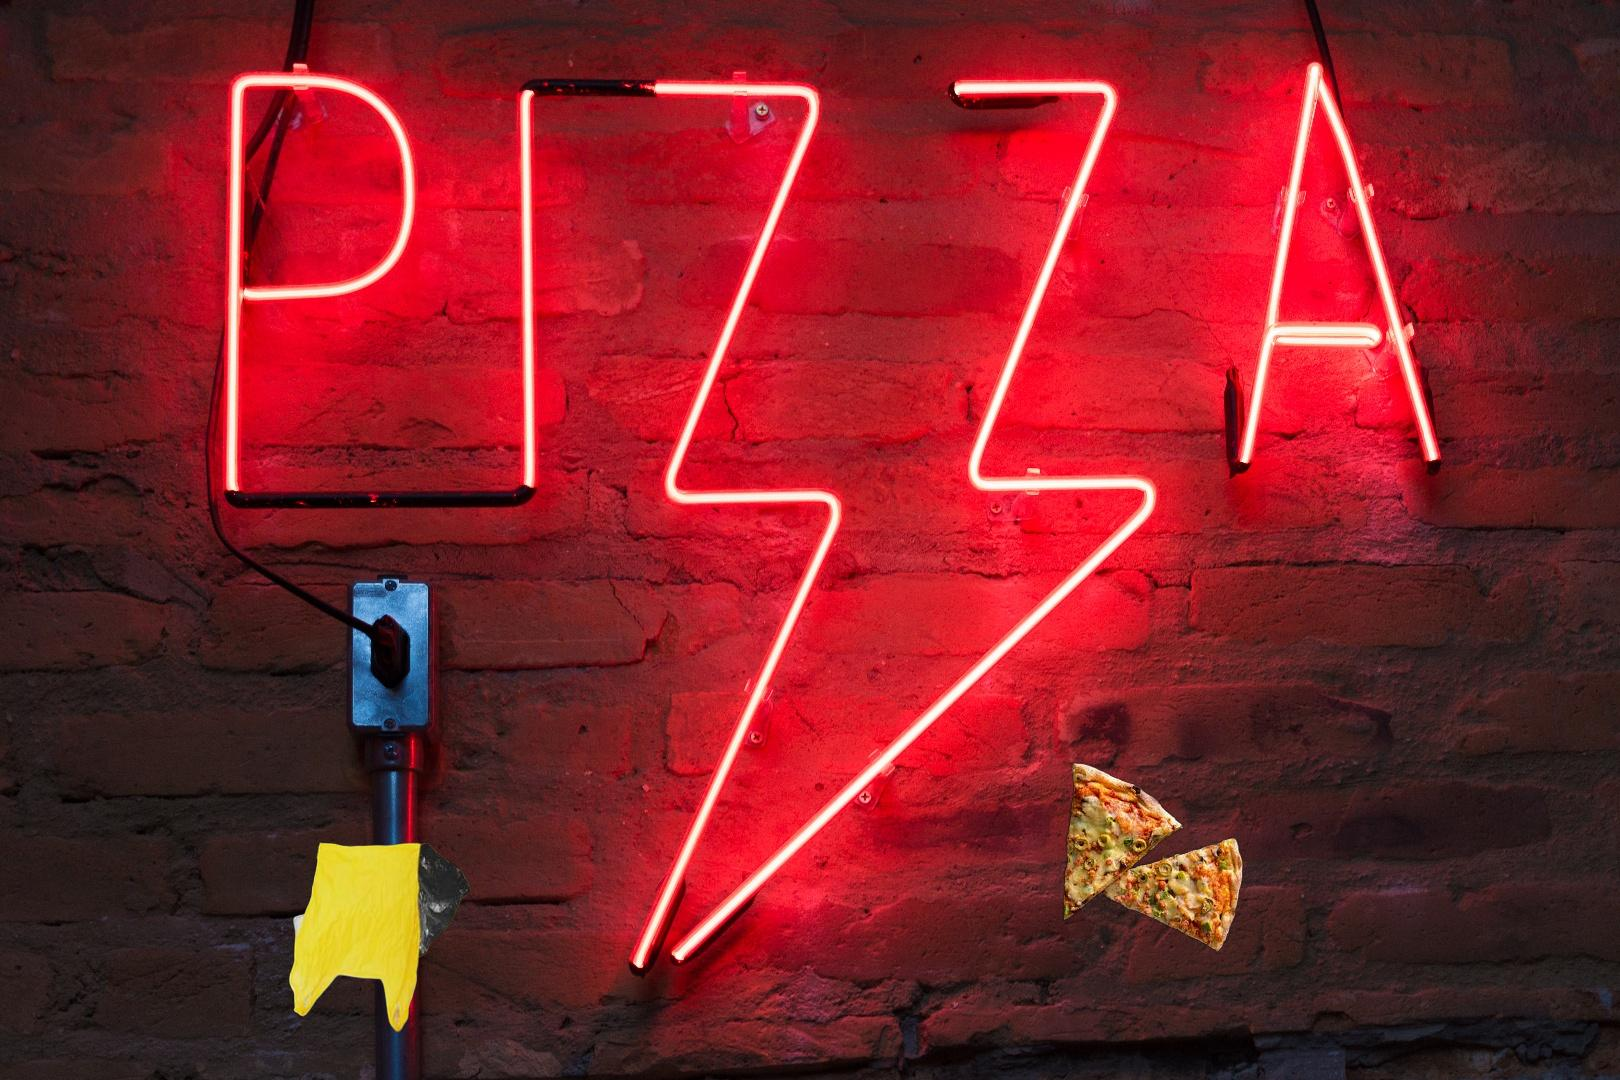biological: (1060, 761, 1245, 955)
plastic-bag: (284, 759, 474, 1050)
